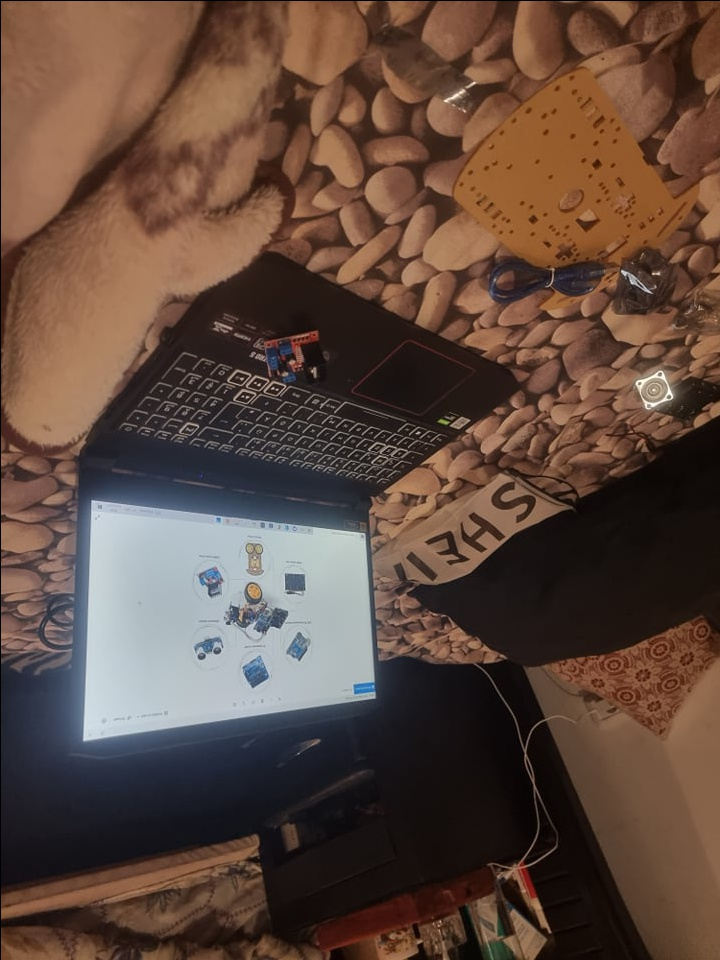5V EXPANSION: (241, 655, 269, 688)
BATTERY BOX: (664, 372, 719, 425), (284, 572, 306, 589)
MOTOR: (260, 329, 331, 391), (194, 565, 225, 597)
SENSOR: (191, 637, 224, 657)
UNO R3: (285, 630, 312, 661)
